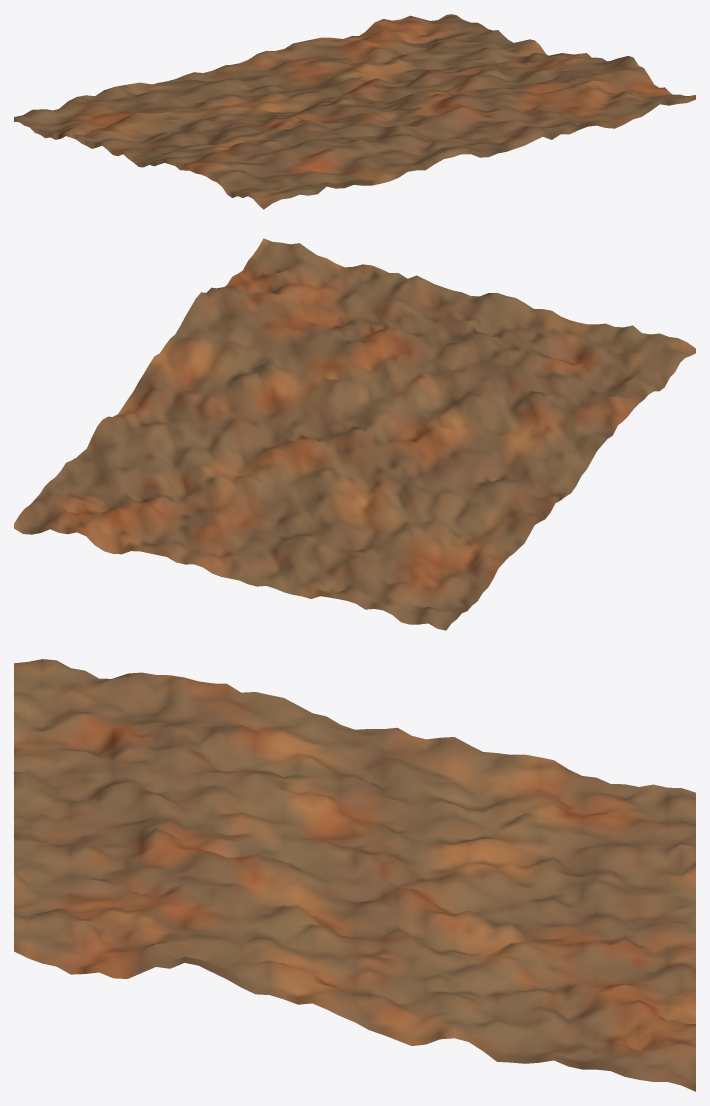
Rendered from terrain-161.glb.
3 views of the same model, one above another, from view 1: azimuth 30°, elevation 25°; view 2: azimuth 150°, elevation 25°; view 3: azimuth 270°, elevation 25° (orthographic). The views are drawn at different scales.
Parts seen in each view (by area): view 1: terrain-161; view 2: terrain-161; view 3: terrain-161.
Part boxes in pixels (x1,y1,x2,y2): terrain-161: (14, 14, 695, 209); terrain-161: (14, 238, 695, 630); terrain-161: (14, 659, 695, 1091).
Bounding box in the file's own units: 384 × 97.43 × 384.
